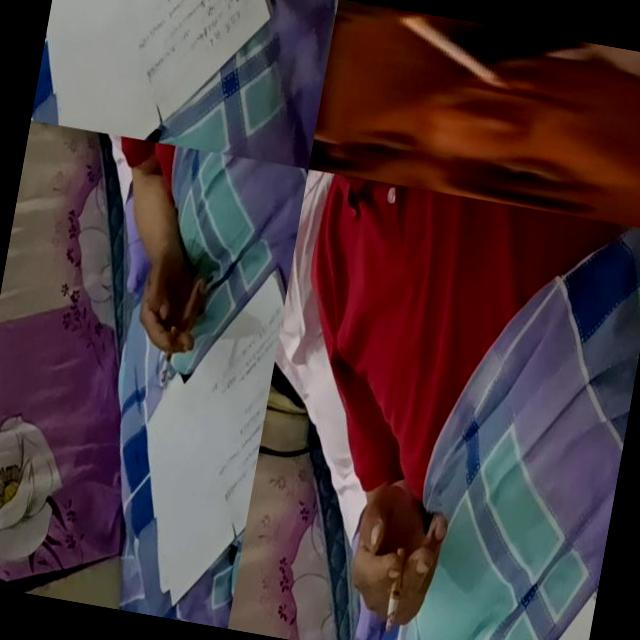smoke: (387, 12, 526, 94), (382, 546, 408, 634), (158, 326, 176, 384)
